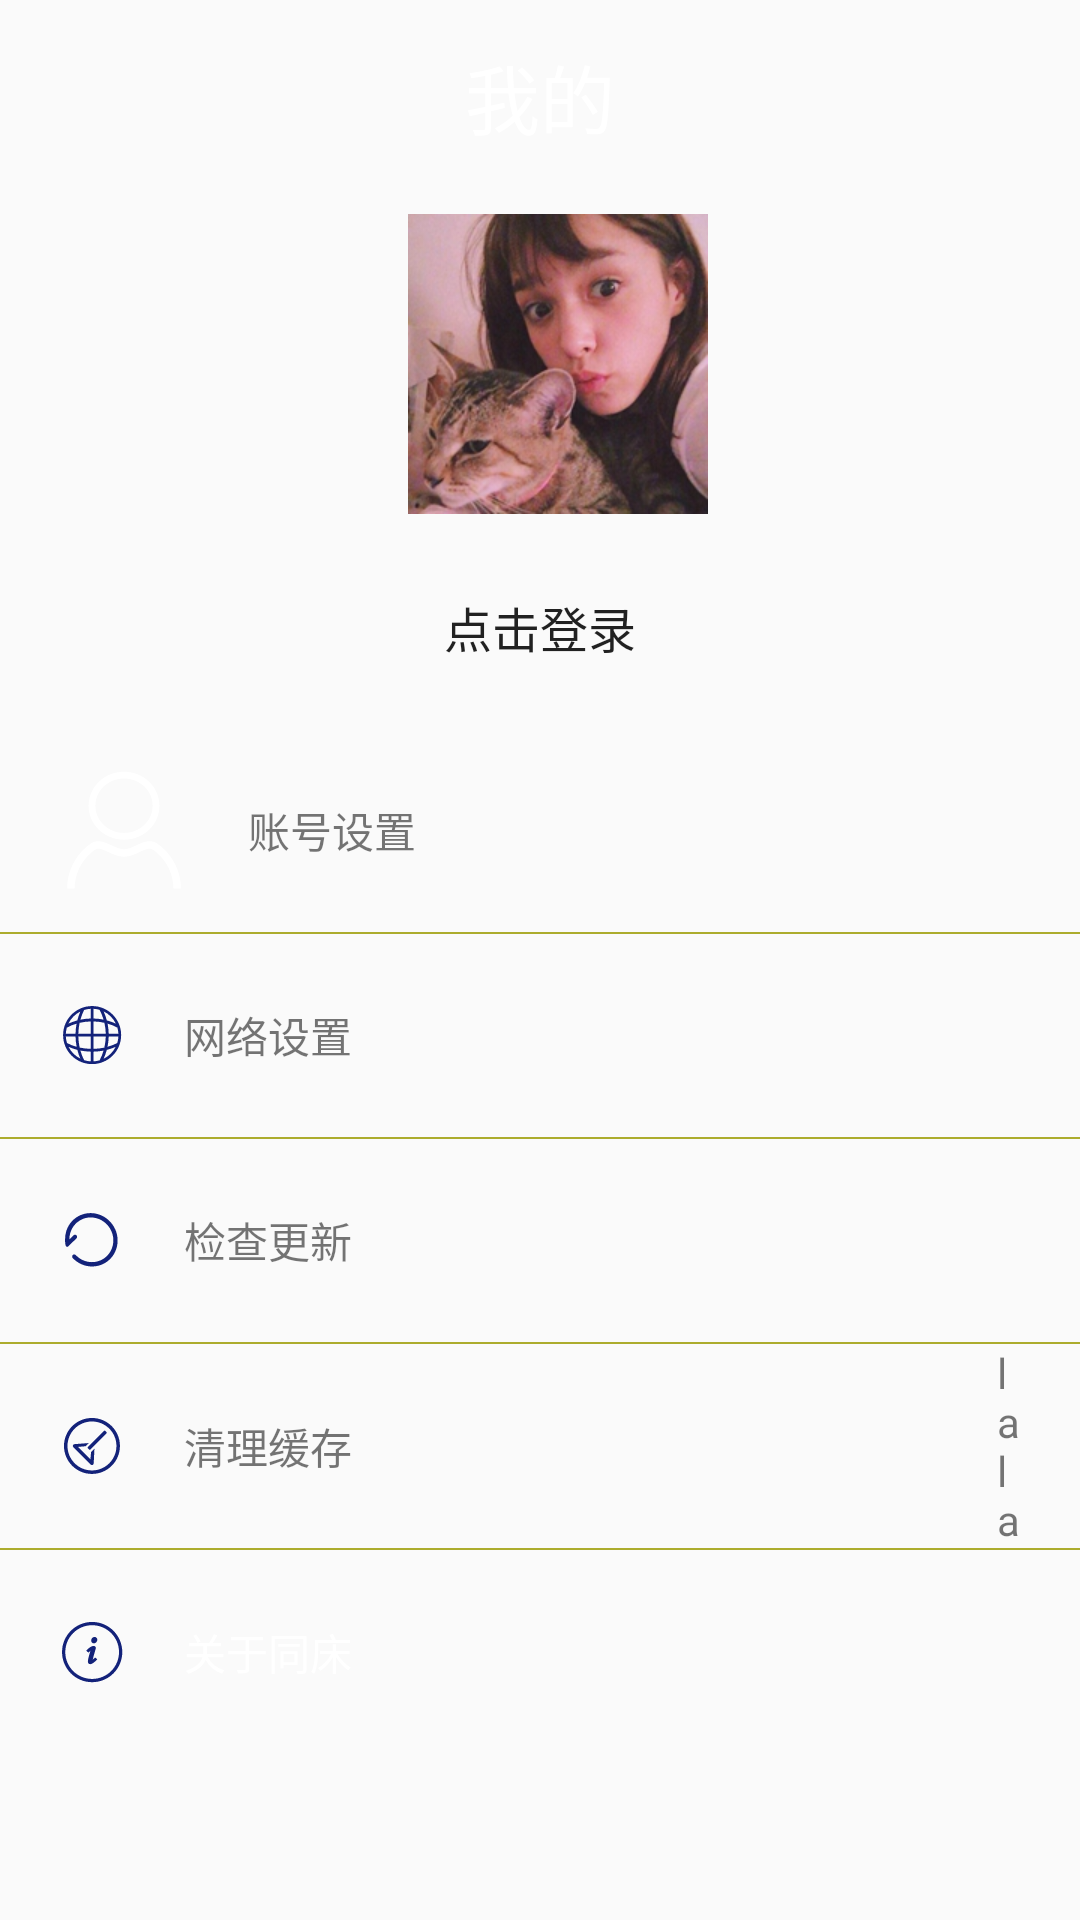

Screen size 1080 x 1920. Icon name, then its center in pixels as (x,y):
about: (92,1652)
clean: (92,1446)
network: (92,1035)
updata: (91,1240)
